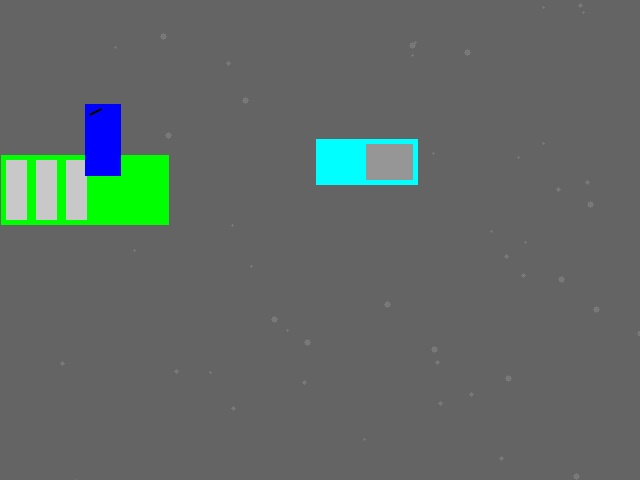bus: (1, 155, 168, 224)
motorcycle: (85, 104, 120, 175)
truck: (316, 139, 417, 184)
